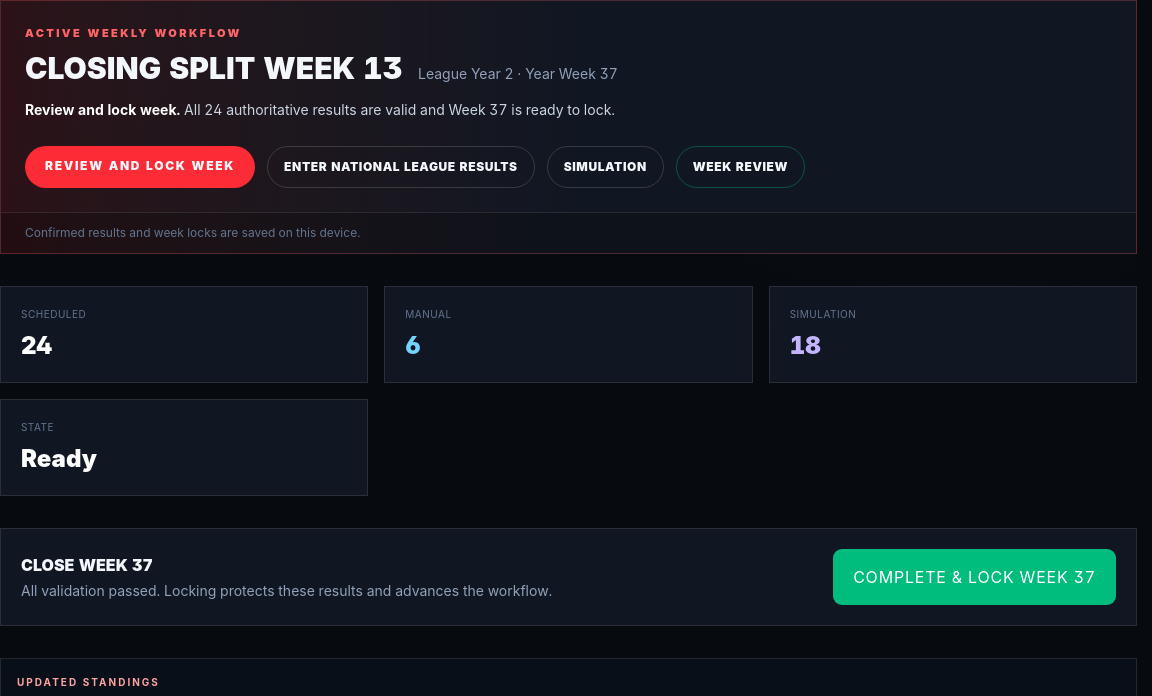
Scenario: WeekReview permanent mini preview › keeps the review table visible and updates its locked-week state after complete and unlock
Expected: the text "Close Week 37" is shown, [0, 528, 1137, 626]
Click the button "Complete & lock Week 37".
click(975, 576)  # box [833, 548, 1116, 604]
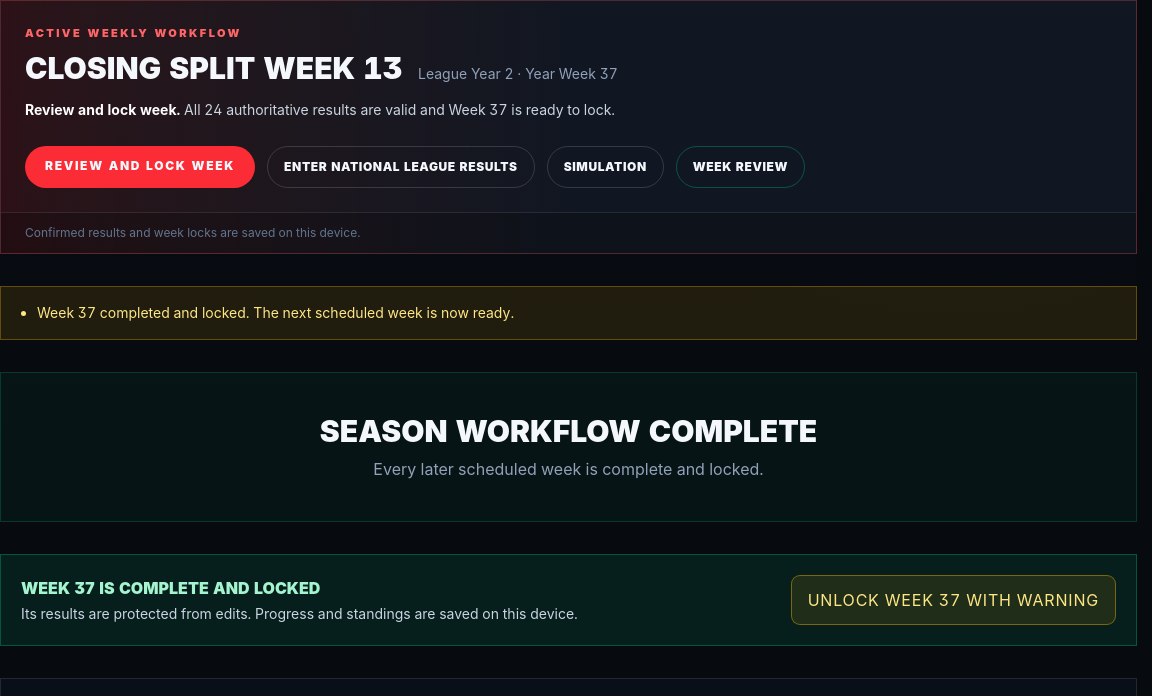
Click the button "Unlock Week 37 with warning".
click(953, 600)  # box [791, 574, 1116, 624]
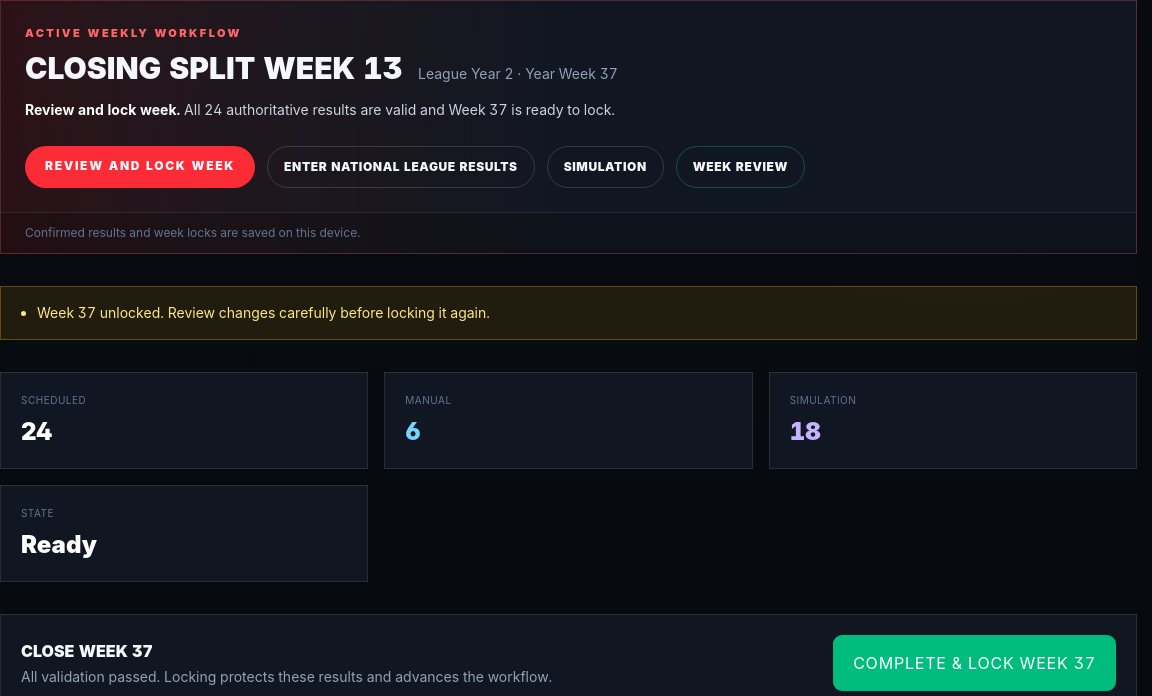
Expected: the list item "Week 37 unlocked" is shown, [37, 304, 490, 320]
